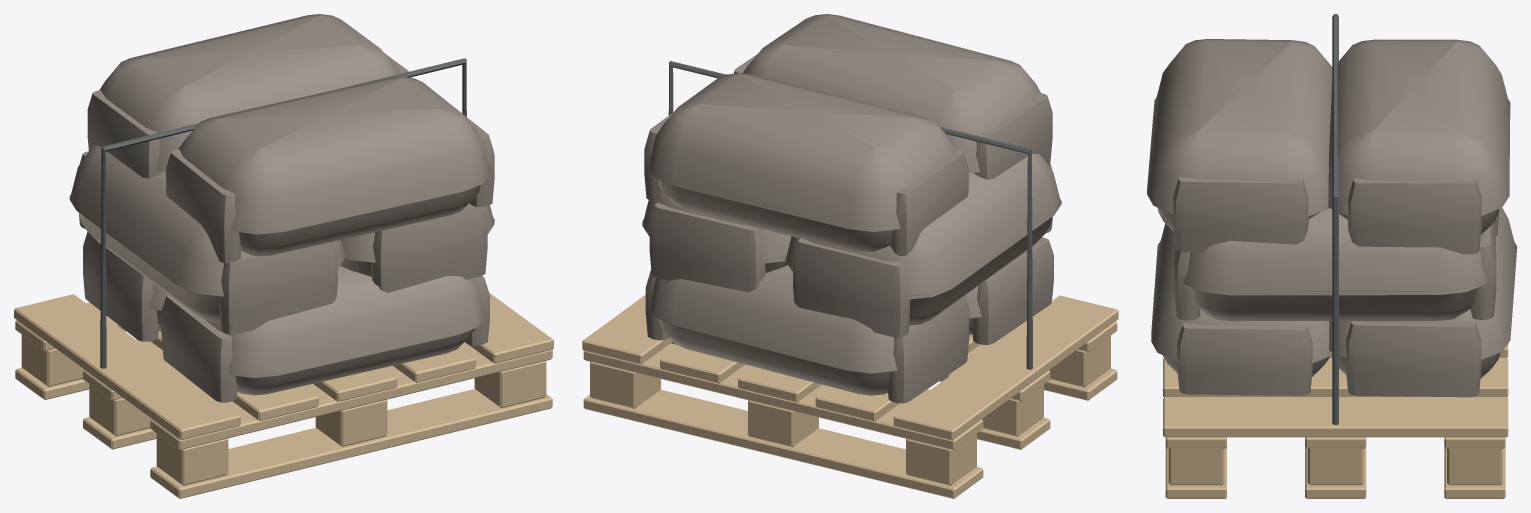
The model's file is garden-centre-and-florist-compost-bag-half-pallet-da69c93b__17756.glb.
3 views of the same model, side by side, from view 1: azimuth 30°, elevation 25°; view 2: azimuth 150°, elevation 25°; view 3: azimuth 270°, elevation 25° (orthographic). The views are drawn at different scales.
Parts seen in each view (by area): view 1: compost-bag-half-pallet; view 2: compost-bag-half-pallet; view 3: compost-bag-half-pallet.
Boxes of the visible parts, x1,y1,x2,y2 form: compost-bag-half-pallet: [14, 14, 553, 498]; compost-bag-half-pallet: [582, 14, 1118, 498]; compost-bag-half-pallet: [1147, 14, 1516, 498].
Size of the model in its own units: 0.8 by 0.6383 by 0.6641.
